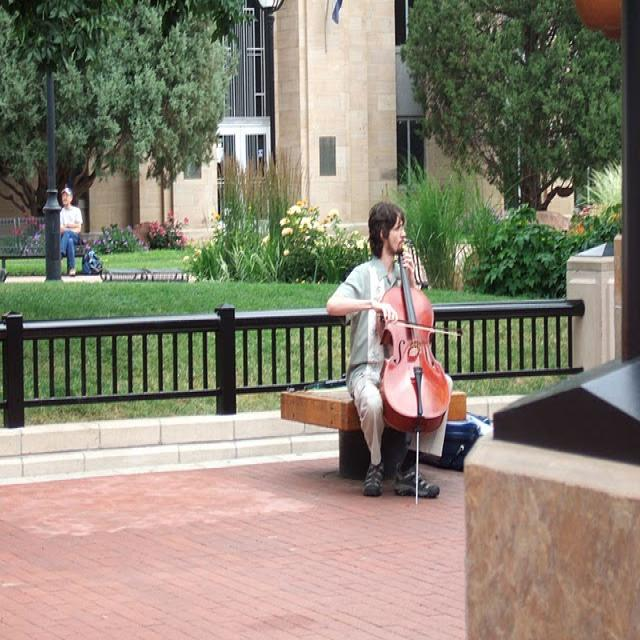cello: (376, 223, 451, 434)
